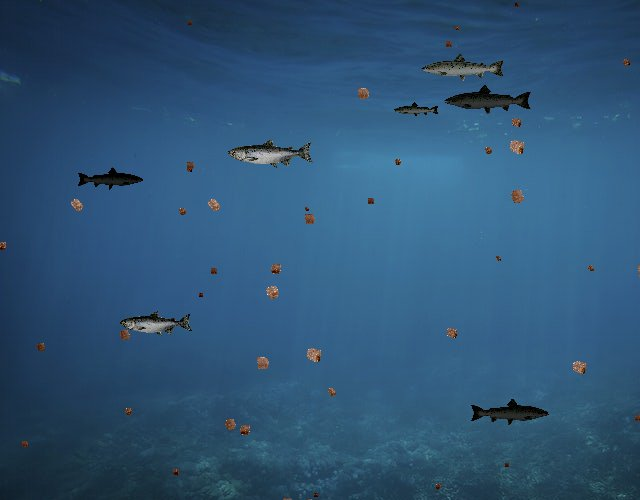Fish: (443, 83, 533, 115), (420, 52, 506, 83), (228, 138, 314, 169), (469, 397, 550, 426), (121, 310, 194, 337), (77, 167, 145, 191), (394, 101, 441, 118)
Pellet: (249, 350, 276, 377), (351, 81, 376, 106), (233, 419, 256, 441), (363, 194, 378, 208), (432, 480, 445, 493), (183, 163, 196, 176), (452, 22, 462, 32)
